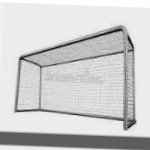goals: (13, 23, 138, 131)
